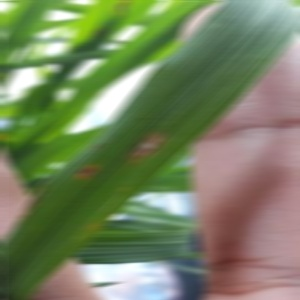Brown_Spot: (60, 152, 110, 198), (130, 116, 174, 167)
